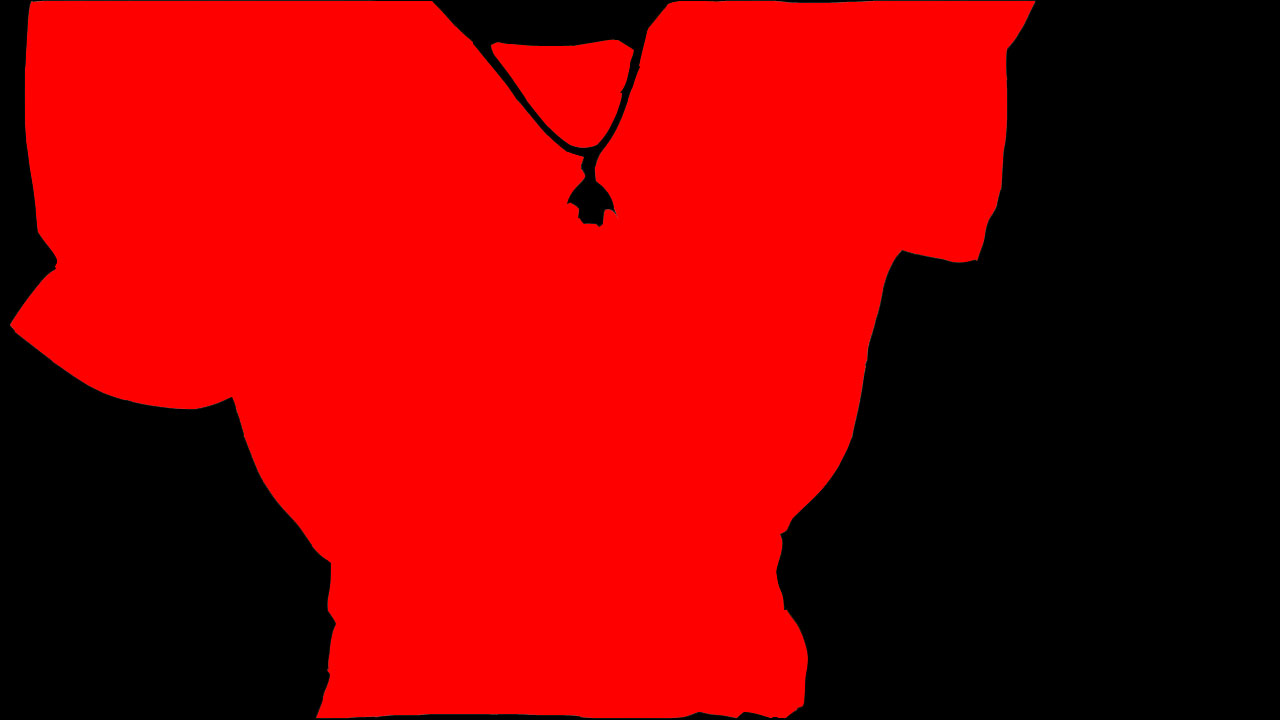uniforme_ifmt: (13, 3, 1041, 720)
